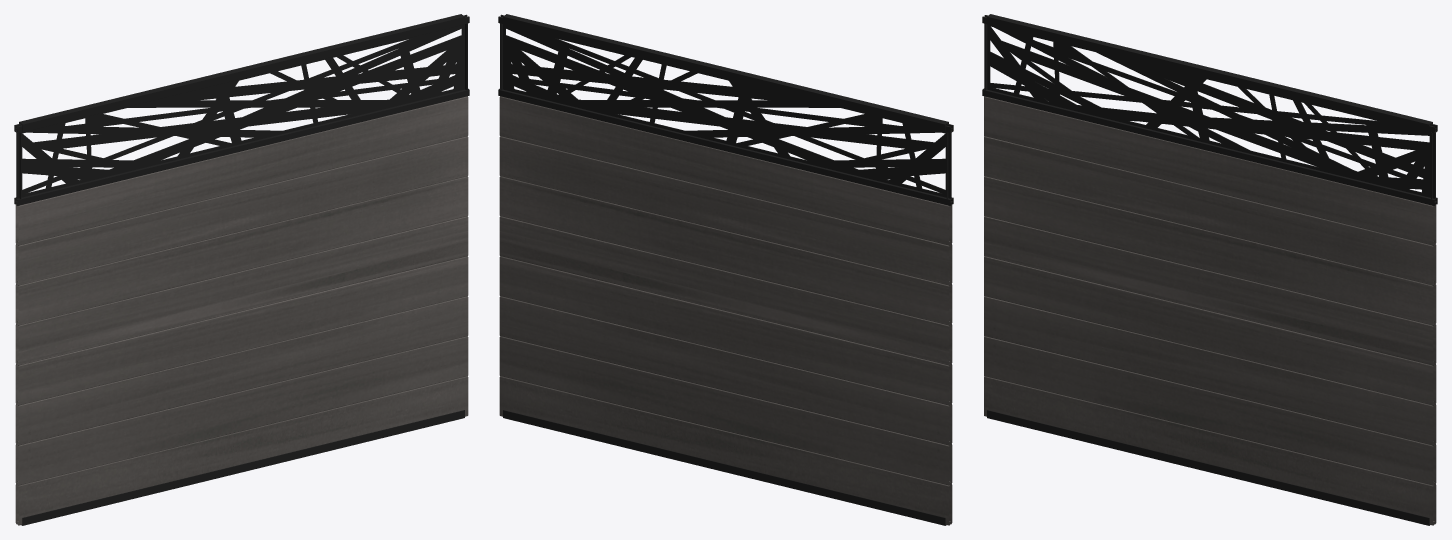
File: BN005H4_DEC2.obj
The picture shows the model from 3 angles, left to right: view 1: azimuth 30°, elevation 25°; view 2: azimuth 150°, elevation 25°; view 3: azimuth 330°, elevation 25°; orthographic projection.
Parts seen in each view (by area): view 1: lame.563_Cube.001; view 2: lame.563_Cube.001; view 3: lame.563_Cube.001.
Part boxes in pixels (<box>): lame.563_Cube.001: <box>14,14,469,525</box>; lame.563_Cube.001: <box>498,14,953,525</box>; lame.563_Cube.001: <box>982,14,1437,525</box>.
Bounding box in the file's own units: 1.79 × 1.52 × 0.025.
Materials: 2 (1 with a texture image).
